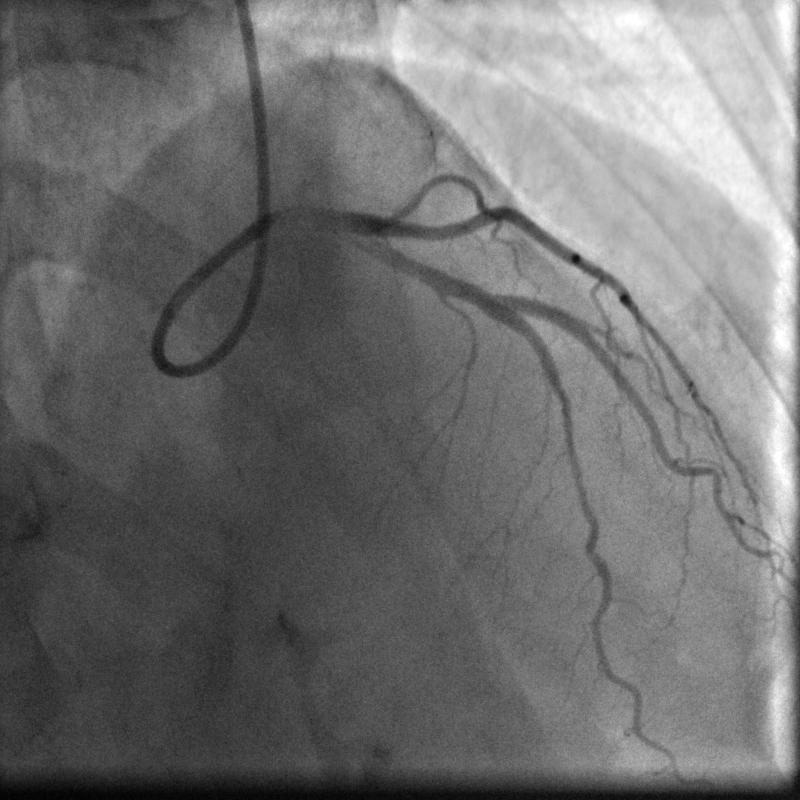Stenosis: (465, 276, 484, 313)
